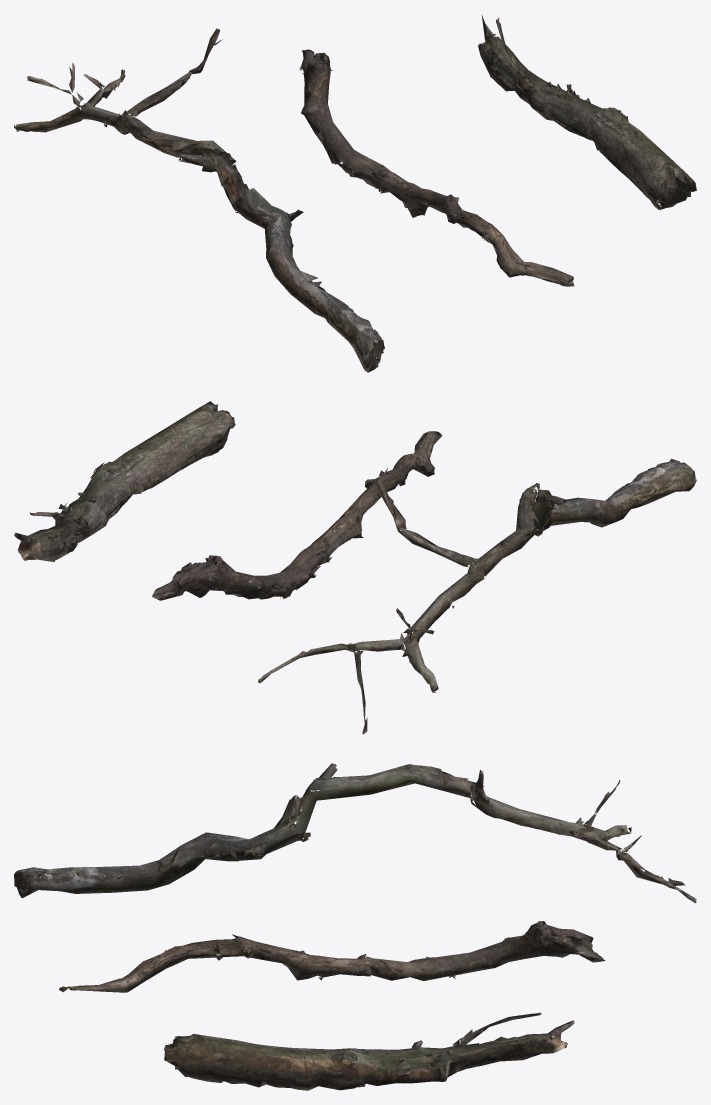
Rendered from dry_branches_medium_01.glb.
The picture shows the model from 3 angles, top to bottom: view 1: azimuth 30°, elevation 25°; view 2: azimuth 150°, elevation 25°; view 3: azimuth 270°, elevation 25°; orthographic projection. The views are drawn at different scales.
Visible parts, largest first — view 1: dry_branches_medium_01_c; view 2: dry_branches_medium_01_c; view 3: dry_branches_medium_01_c.
Part boxes in pixels (x1,y1,x2,y2): dry_branches_medium_01_c: [14, 15, 696, 372]; dry_branches_medium_01_c: [14, 401, 696, 734]; dry_branches_medium_01_c: [14, 763, 696, 1090].
Size of the model in its own units: 1.06 by 0.3399 by 1.3.
1 material, 1 textured.
